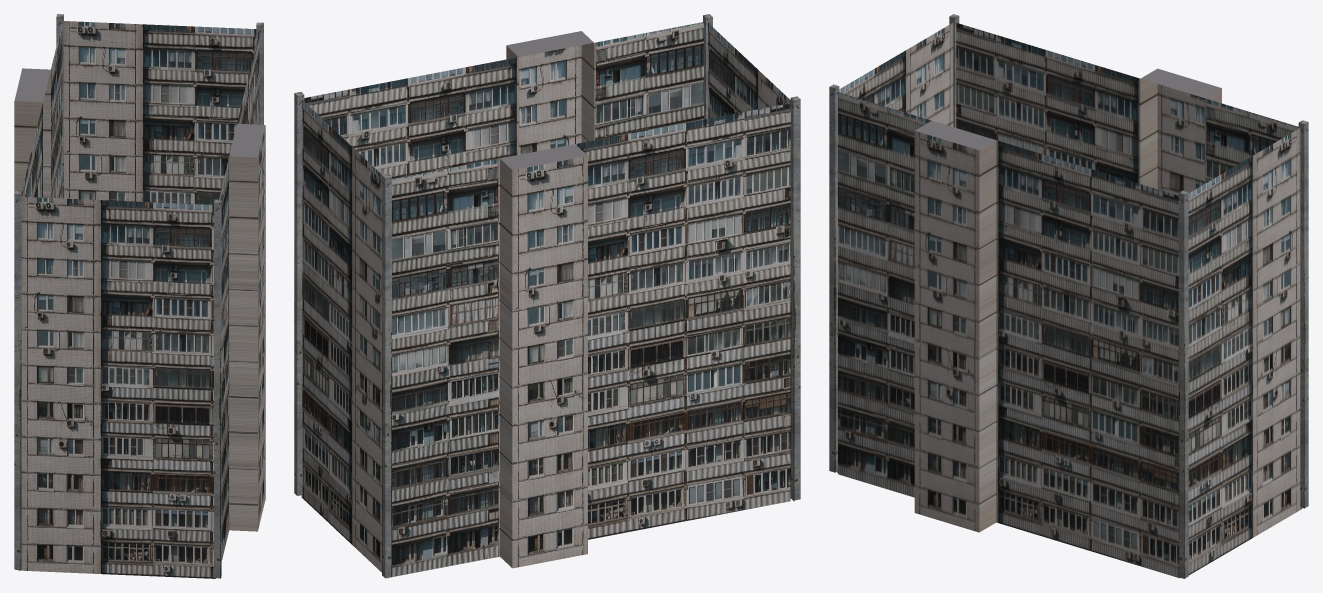
File: tower_9_wide.glb
3 views of the same model, side by side, from view 1: azimuth 30°, elevation 25°; view 2: azimuth 150°, elevation 25°; view 3: azimuth 270°, elevation 25° (orthographic). The views are drawn at different scales.
Visible parts, largest first — view 1: tower_9_wide; view 2: tower_9_wide; view 3: tower_9_wide.
Part boxes in pixels (x1,y1,x2,y2): tower_9_wide: [14, 14, 265, 578]; tower_9_wide: [294, 14, 800, 578]; tower_9_wide: [829, 14, 1308, 578].
Size of the model in its own units: 31.76 by 31.69 by 35.56.
2 materials, 2 textured.
